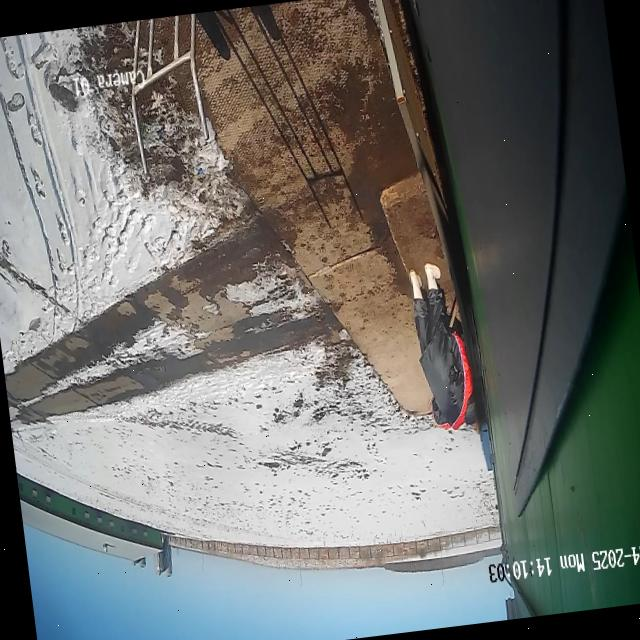Red uniform: (404, 255, 482, 438)
